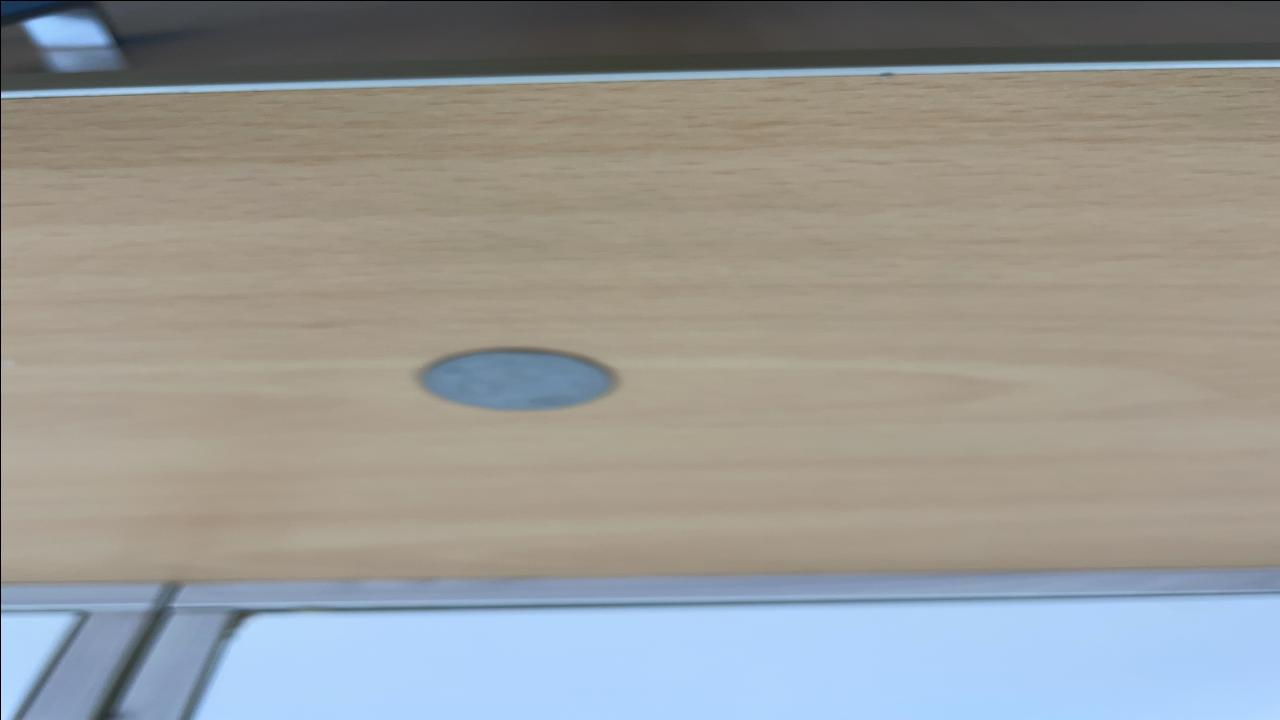coin: (413, 348, 619, 412)
